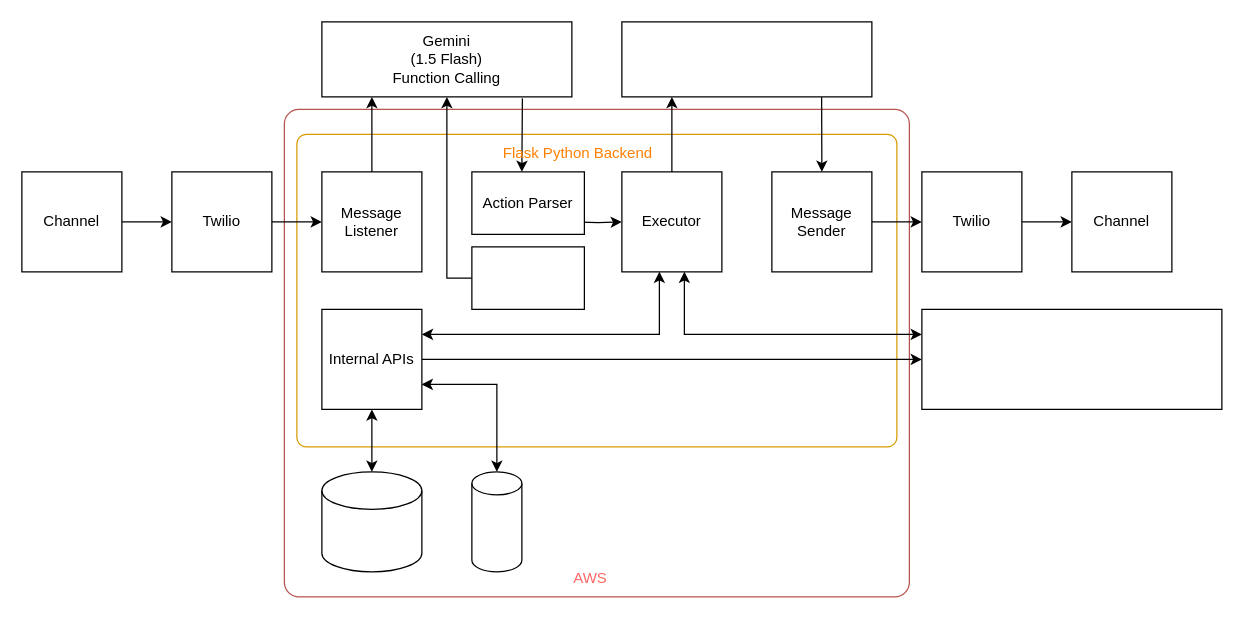
Image size: 1244x619. Some labels were removed from this diagram. The shapes that lost their labels are listed below. From the top down, each one's centre as x and y in pixels, then its label:
At (746,59): "Gemini (1.5 Flash) Content Generation".
At (527,277): "Function Schema Declaration".
At (1071,358): "External APIs".
At (371,521): "DynamoDB".
At (496,521): "S3".
